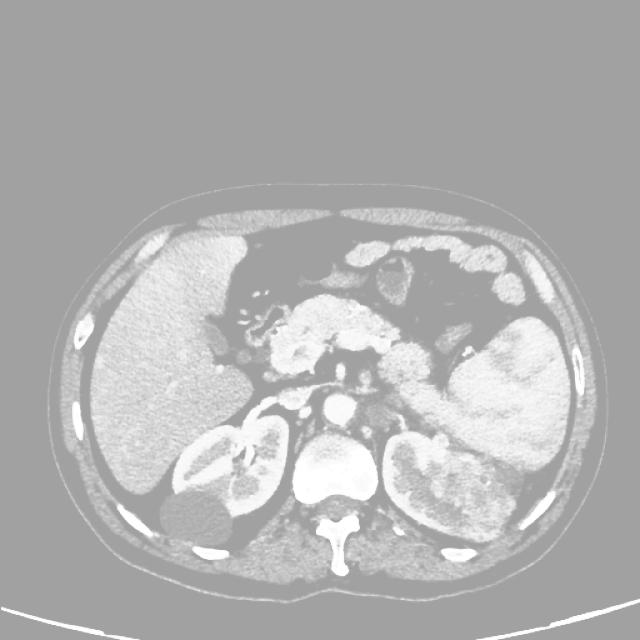TUMOR: (102, 241, 578, 537)
